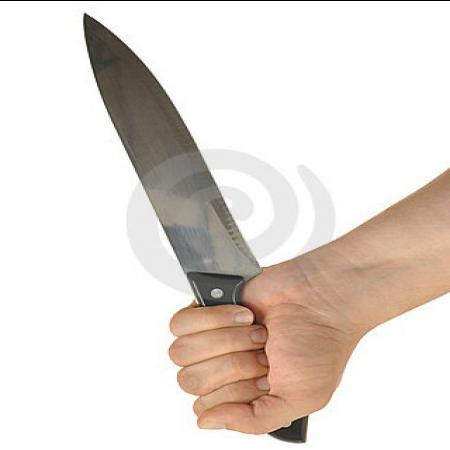long weapon: (69, 6, 322, 446)
